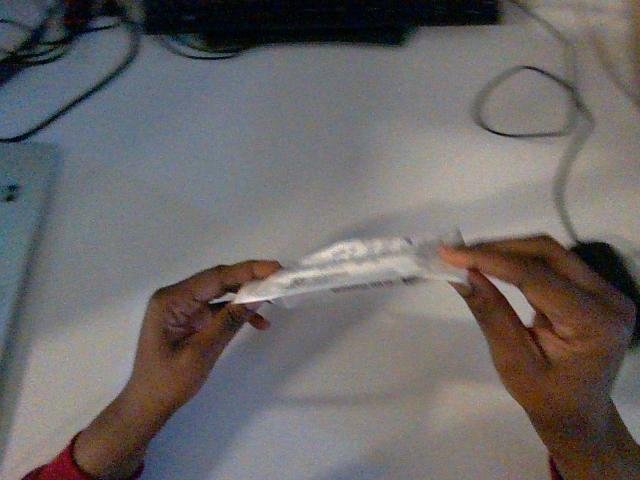syringe: (233, 232, 467, 306)
